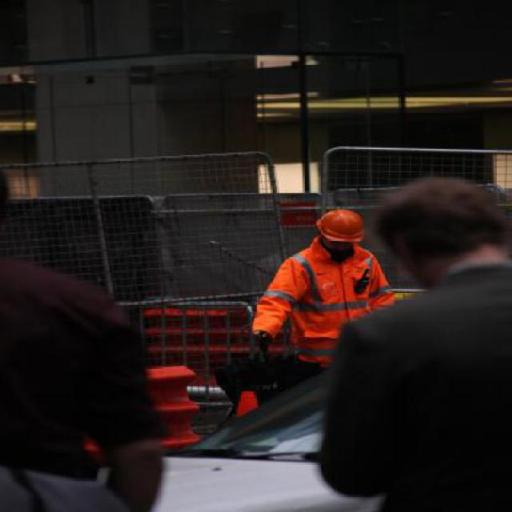person: (362, 182, 512, 508), (238, 202, 394, 370), (226, 202, 386, 328)
vest: (258, 250, 390, 308)
